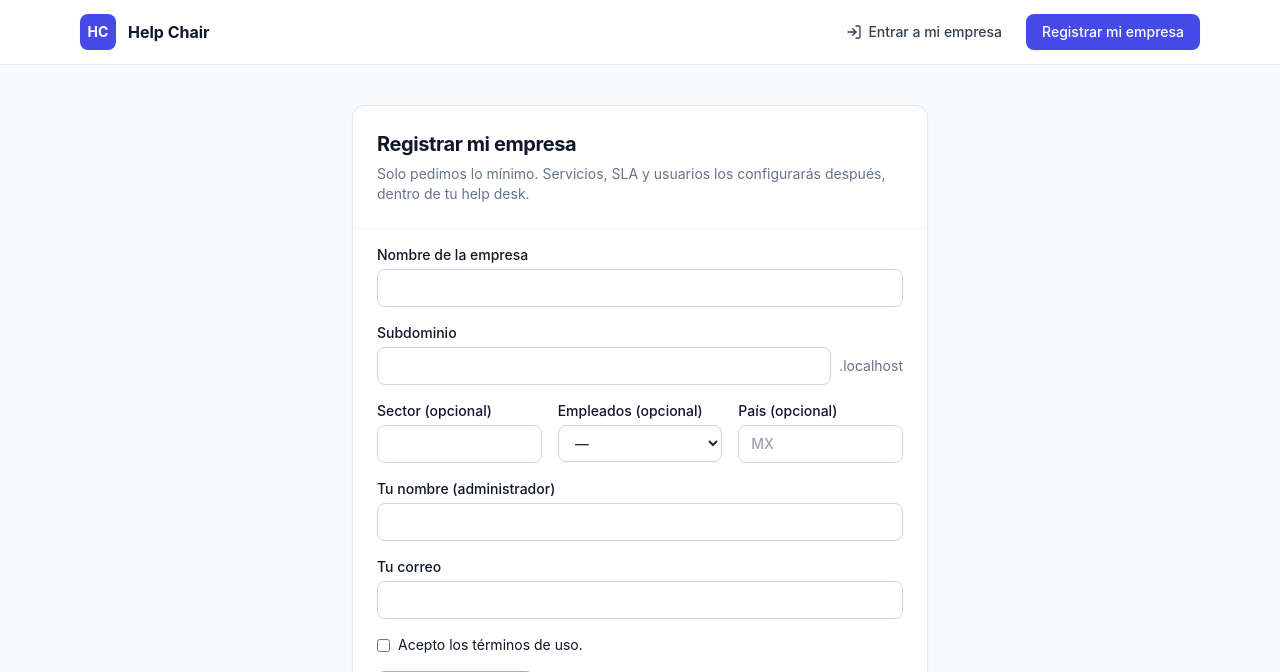
Test case: PublicSite › informa si el subdominio está disponible
Type "acme" into the field labelled "Subdominio". click: (604, 366)
box: [377,347,831,385]
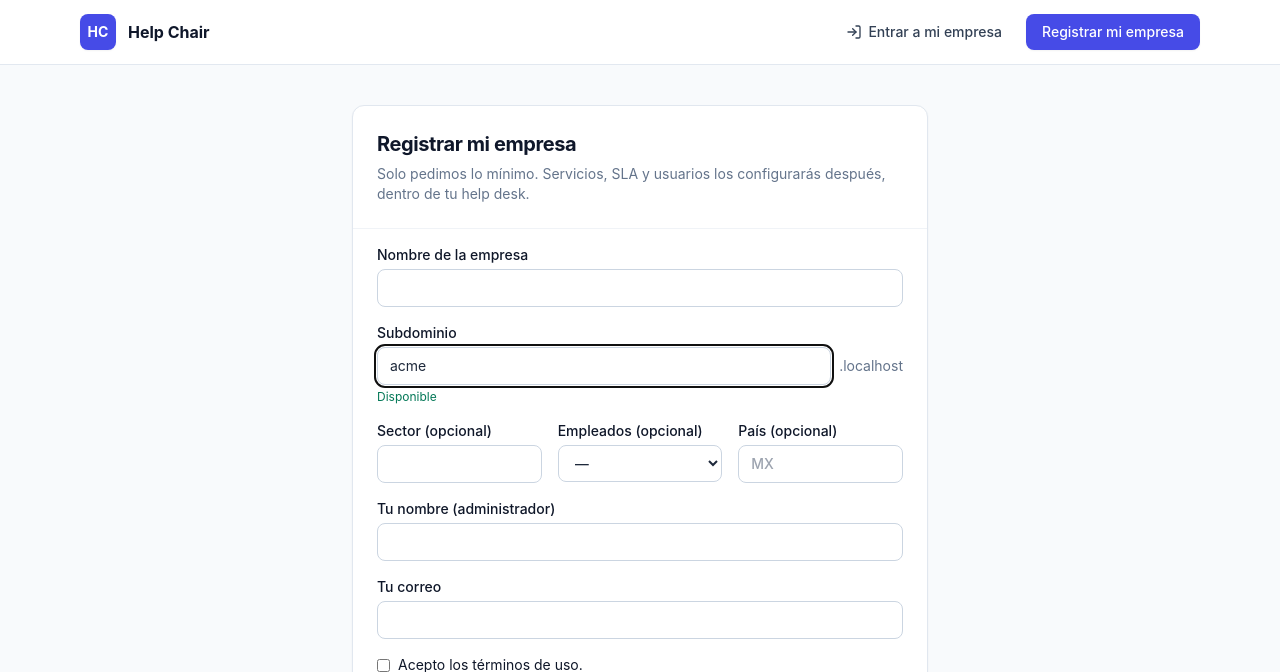
Now the text "Disponible" is shown, box [377,389,437,404]
